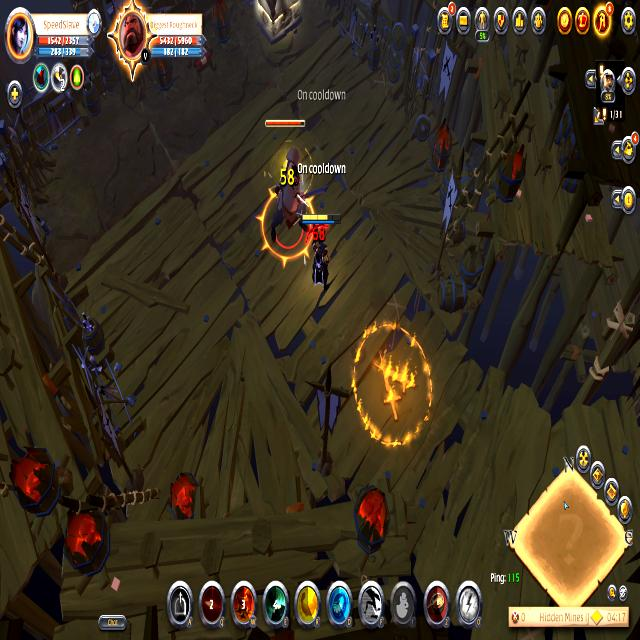ore: (260, 113, 314, 269)
red: (302, 209, 342, 292)
